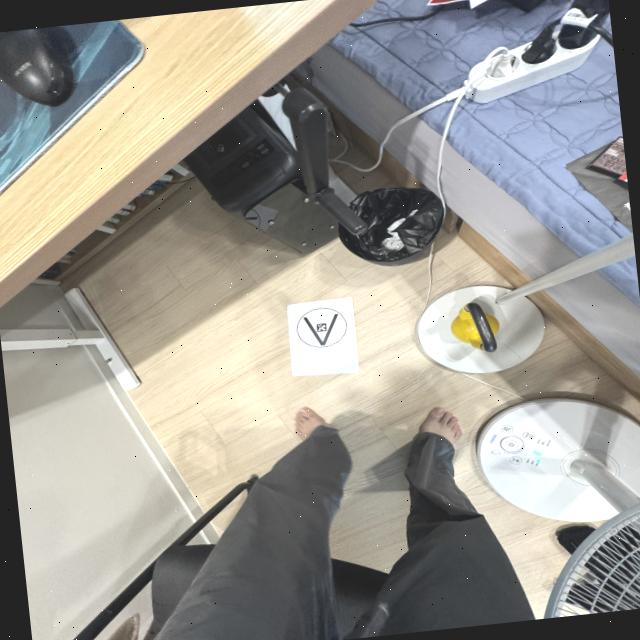ArUro mark: (286, 300, 354, 352)
